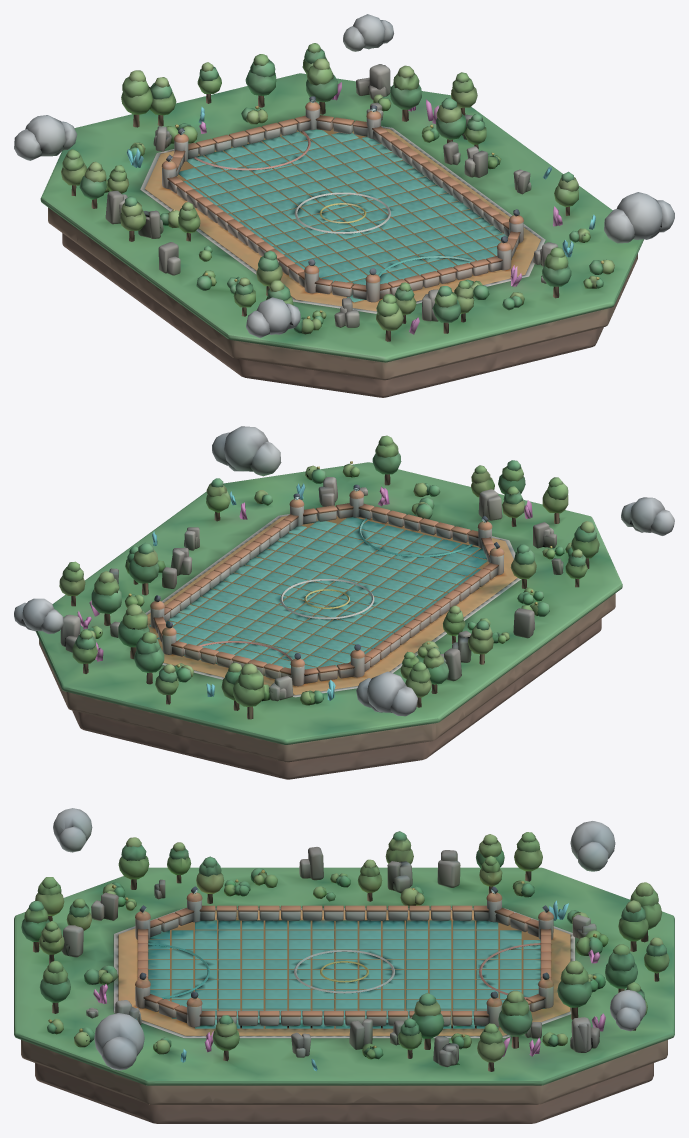
Rendered from jardim.glb.
3 views of the same model, one above another, from view 1: azimuth 30°, elevation 25°; view 2: azimuth 150°, elevation 25°; view 3: azimuth 270°, elevation 25° (orthographic). The views are drawn at different scales.
Visible parts, largest first — view 1: jardim_floor__dark; view 2: jardim_floor__dark; view 3: jardim_floor__dark.
Boxes of the visible parts, x1,y1,x2,y2 form: jardim_floor__dark: (14,14,674,397); jardim_floor__dark: (14,426,674,779); jardim_floor__dark: (14,808,674,1123).
Bounding box in the file's own units: 23.17 × 5.57 × 28.19.
